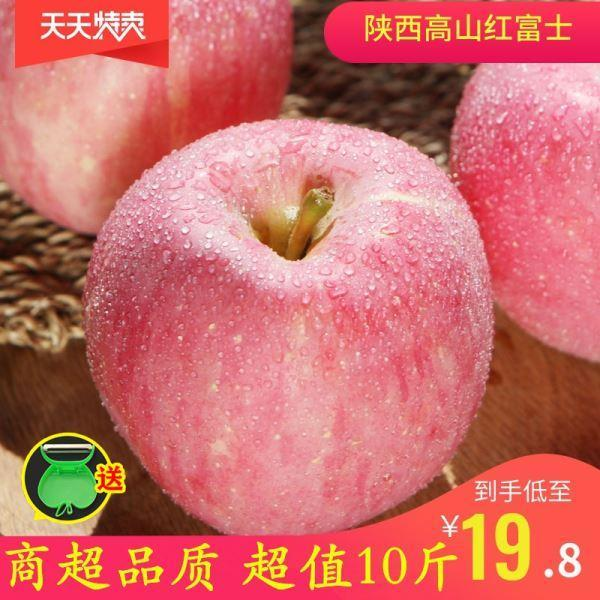apple: (88, 122, 494, 534), (1, 4, 289, 231)
